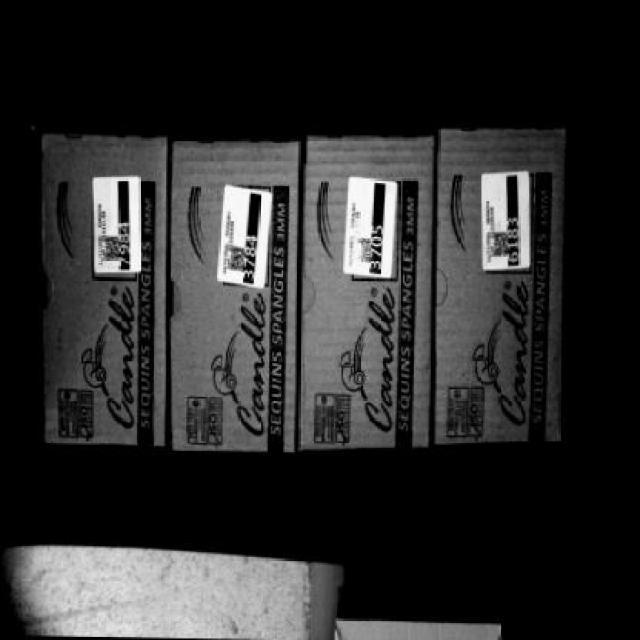box: (19, 140, 181, 458), (170, 132, 304, 460), (436, 126, 570, 448), (306, 139, 440, 452), (35, 134, 177, 402), (167, 406, 176, 416)
